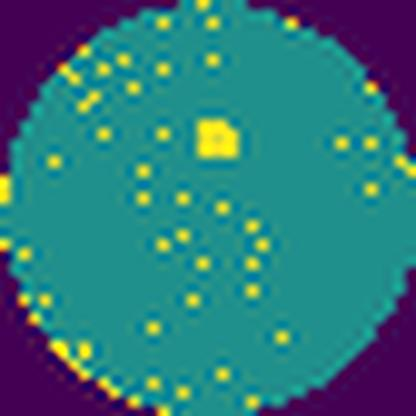Loc: (194, 116, 243, 160)
